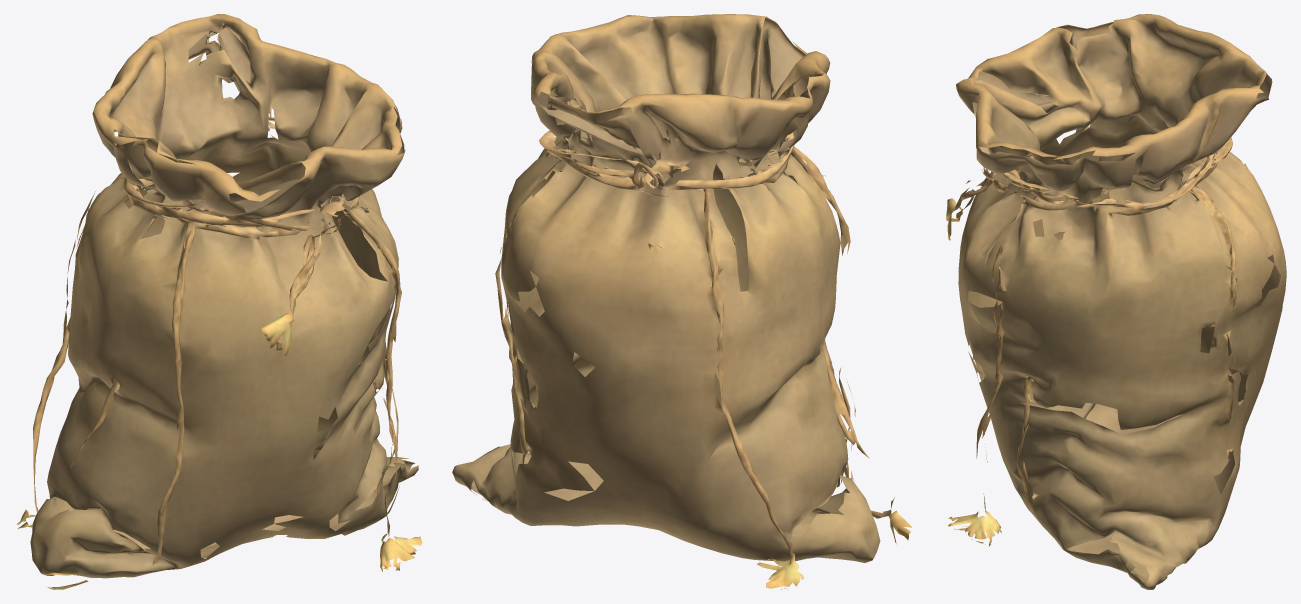
File: prop_sack.glb
The picture shows the model from 3 angles, left to right: view 1: azimuth 30°, elevation 25°; view 2: azimuth 150°, elevation 25°; view 3: azimuth 270°, elevation 25°; orthographic projection. The views are drawn at different scales.
Visible parts, largest first — view 1: world; view 2: world; view 3: world.
Part boxes in pixels (x1,y1,x2,y2): world: (17, 14, 422, 589); world: (452, 14, 911, 589); world: (946, 14, 1286, 589).
Size of the model in its own units: 0.9226 by 1 by 0.6824.
Materials: 1 (1 with a texture image).
